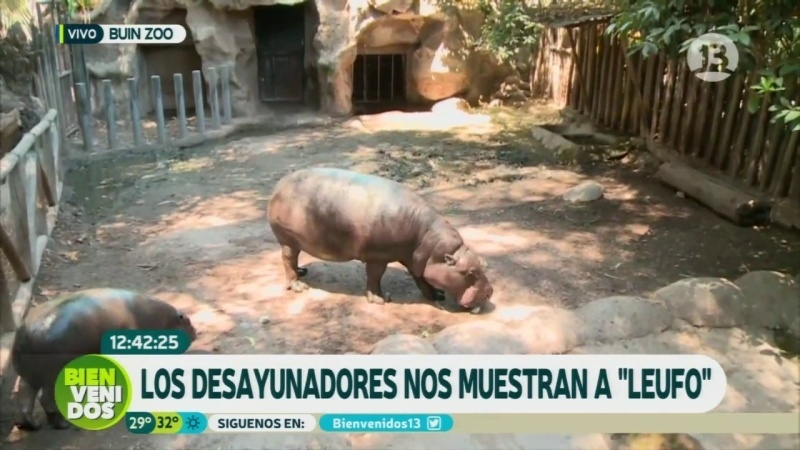hipopotamo: (249, 159, 511, 330)
